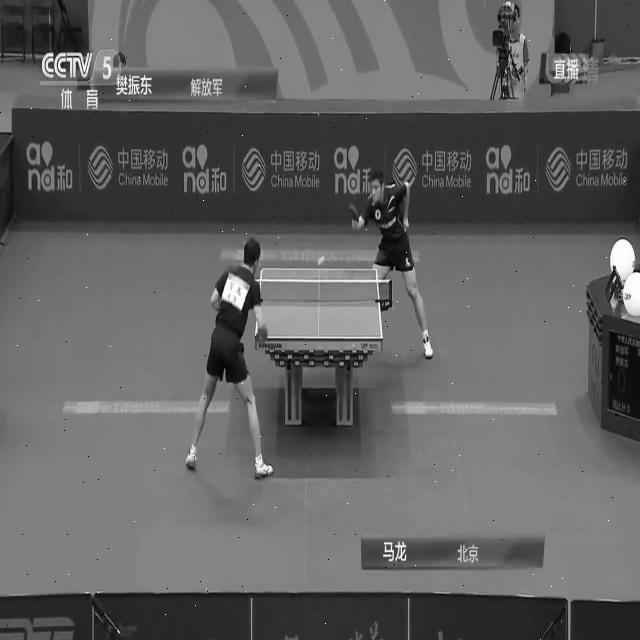ping-pong-ball: (316, 250, 324, 264)
